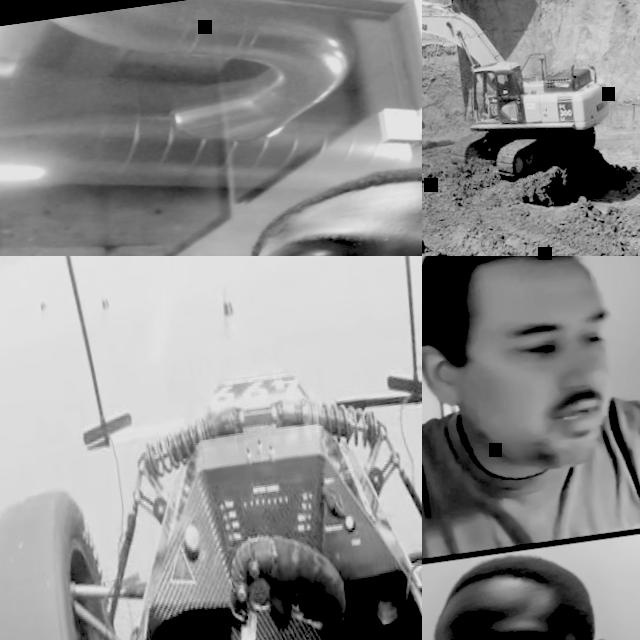NO-Hardhat: (253, 147, 422, 256), (422, 544, 595, 631), (422, 256, 603, 318)
NO-Mask: (474, 386, 621, 482)
NO-Safety Vest: (422, 389, 640, 569)
Person: (422, 256, 640, 588), (0, 135, 422, 256), (422, 518, 640, 640), (491, 77, 499, 99)
Safety Cone: (209, 280, 247, 329), (35, 280, 55, 347), (94, 283, 125, 321), (0, 301, 10, 331)
machinery: (422, 0, 622, 197)
vehicle: (0, 256, 422, 640)
